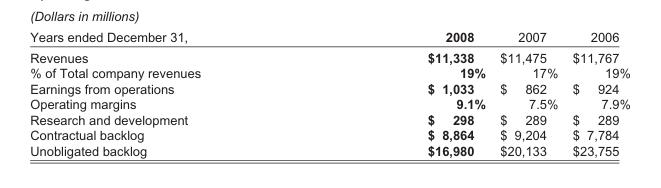table: (29, 28, 629, 157)
table column: (29, 28, 313, 157), (313, 28, 492, 157), (492, 28, 564, 157), (564, 28, 629, 157)
table column header: (29, 28, 629, 46)
table row: (29, 28, 629, 46), (29, 46, 629, 64), (29, 64, 629, 80), (29, 95, 629, 111), (29, 126, 629, 142), (29, 80, 629, 95), (29, 111, 629, 126), (29, 142, 629, 157)
